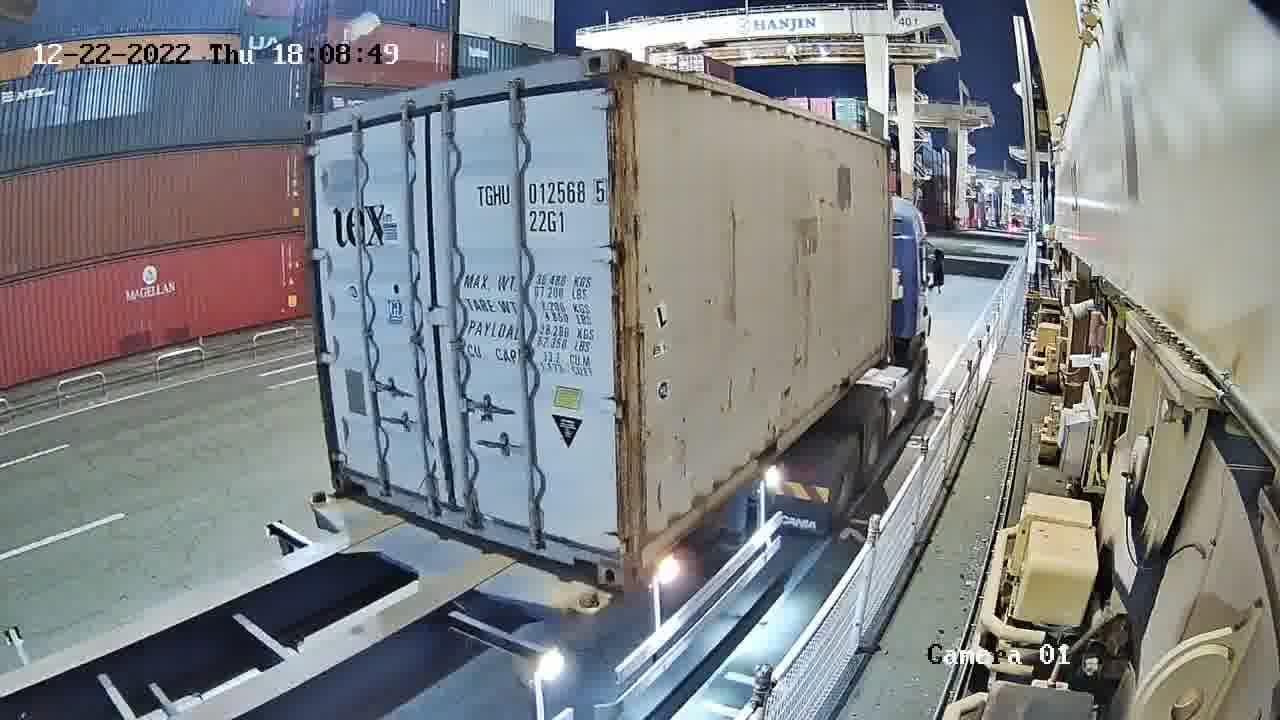Chassis: (308, 491, 610, 611)
Cone: (570, 586, 608, 616), (305, 486, 330, 509)
Hole_L: (328, 452, 370, 503)
Hole_R: (575, 521, 631, 594)
Tire: (857, 406, 888, 484), (834, 441, 860, 519)
